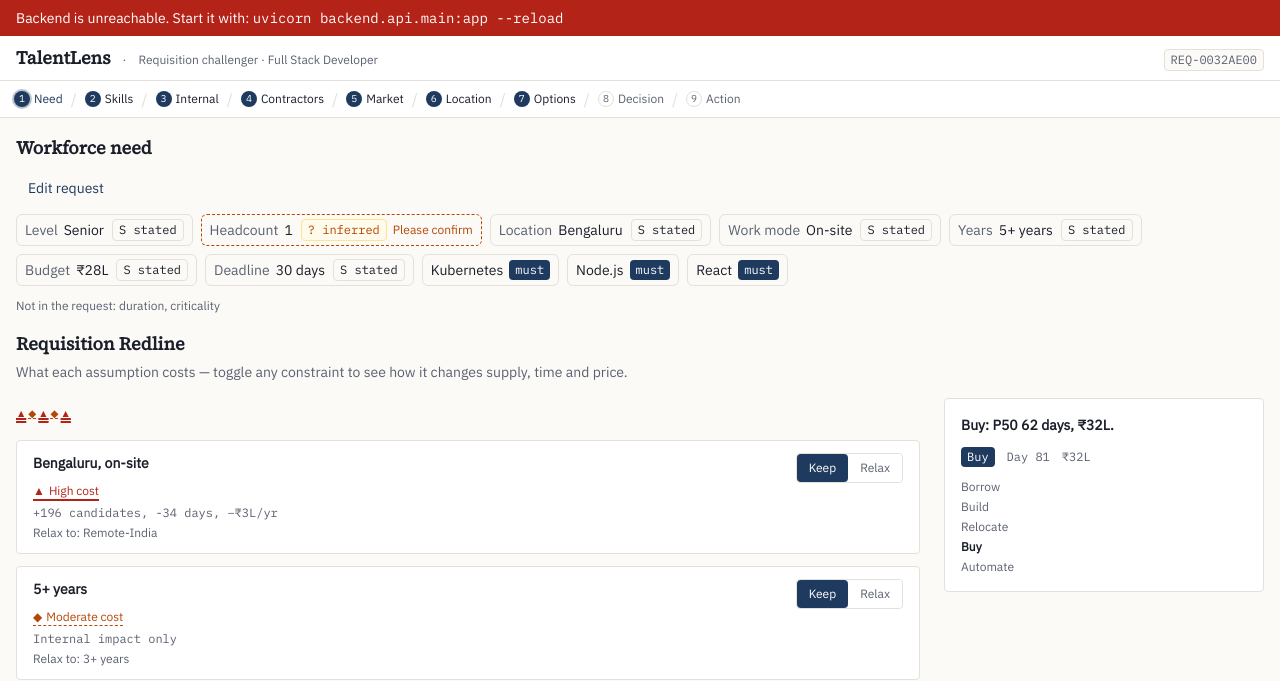
Test case: TC30: Accessibility — axe audit › Step 8 (Decision) has zero serious/critical axe violations
The image size is (1280, 681).
Check: the heading "Requisition Redline" is shown, box left=16, top=331, right=185, bottom=356
Click the button "8 Decision". click: (631, 99)
box: left=592, top=81, right=670, bottom=117
(page scrolled)
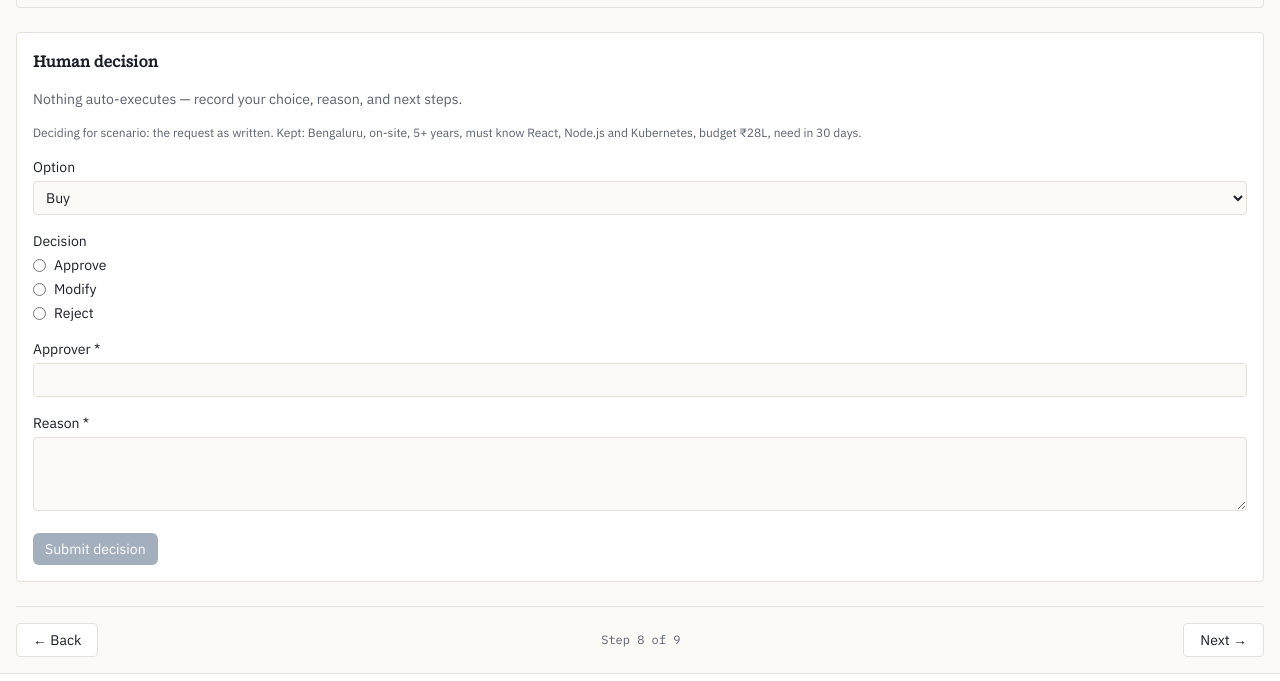
Check: the field labelled "Approver *" is shown, box left=33, top=363, right=1247, bottom=397
